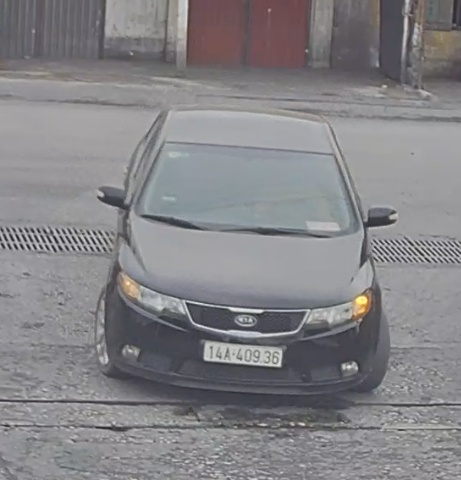vehicle plate: (196, 332, 288, 368)
